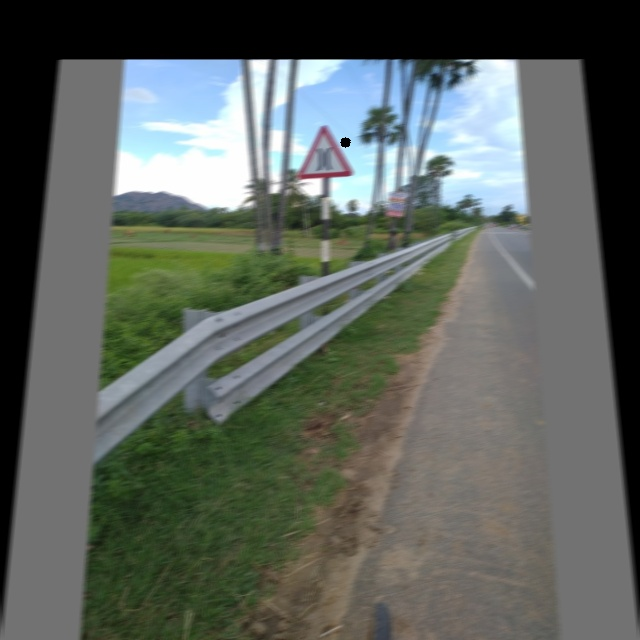Narrow_Bridge: (291, 121, 362, 183)
